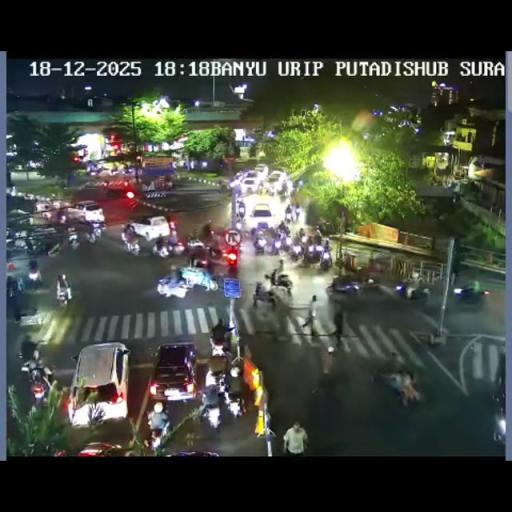Car: (66, 342, 130, 426), (148, 342, 198, 403), (125, 215, 170, 241), (452, 282, 489, 306), (71, 441, 127, 456), (68, 201, 106, 222), (247, 202, 275, 230), (34, 199, 60, 221), (104, 178, 134, 196), (240, 174, 262, 194), (266, 170, 287, 190), (253, 163, 269, 177)
Motorcycle: (22, 356, 56, 406), (146, 405, 170, 451), (198, 386, 222, 427), (372, 365, 407, 391), (221, 382, 245, 419), (157, 274, 193, 298), (355, 277, 392, 300), (209, 322, 233, 353), (6, 277, 22, 321), (300, 295, 318, 331), (204, 363, 227, 390), (252, 283, 275, 308), (269, 272, 292, 296), (20, 333, 39, 362), (190, 244, 211, 270), (55, 280, 73, 307), (302, 242, 322, 266), (84, 222, 105, 244), (407, 283, 431, 302), (26, 268, 44, 291), (229, 354, 244, 381), (123, 234, 141, 256), (287, 238, 303, 261), (26, 238, 46, 255), (319, 244, 332, 270), (152, 240, 170, 258), (170, 238, 186, 258), (207, 243, 223, 263), (317, 219, 337, 235), (270, 234, 285, 255), (253, 234, 267, 254), (66, 226, 78, 249), (202, 219, 212, 239), (278, 184, 288, 202), (168, 222, 178, 239), (395, 281, 408, 294), (163, 174, 173, 190), (56, 210, 67, 224), (299, 232, 310, 246), (237, 200, 245, 218), (234, 218, 244, 232), (280, 223, 290, 237), (313, 230, 322, 245), (7, 228, 16, 243), (120, 166, 135, 175), (292, 206, 300, 222), (219, 179, 228, 193), (285, 204, 292, 221), (278, 258, 284, 273), (192, 228, 199, 239), (110, 166, 118, 175), (102, 180, 109, 189)
